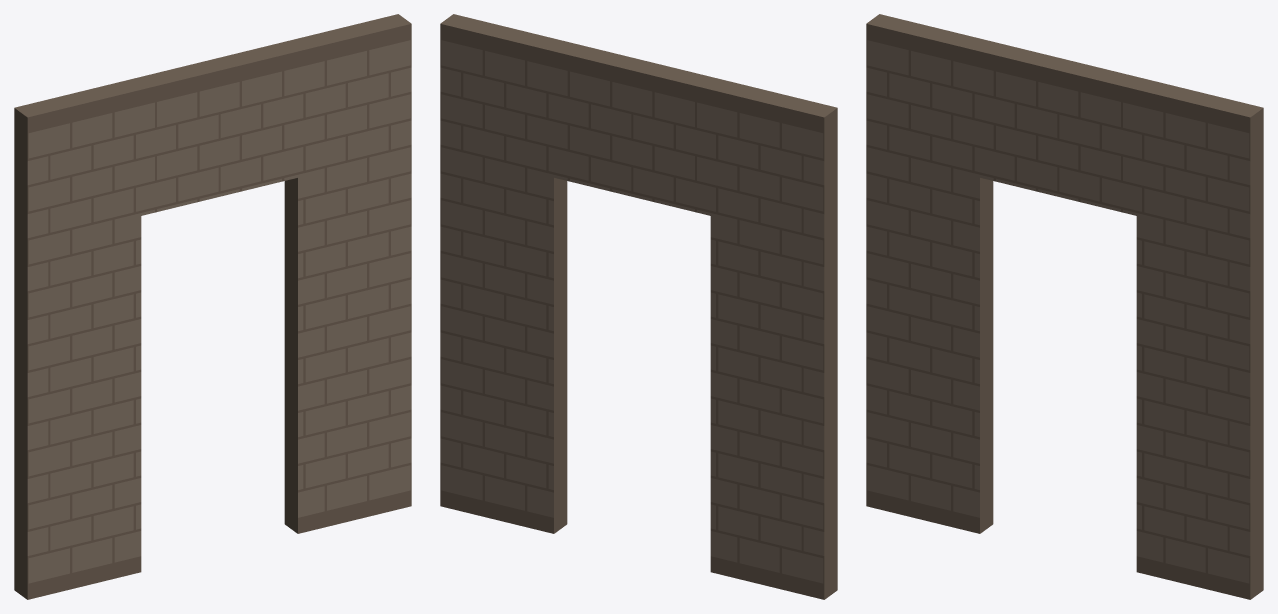
Rendered from Wall1_C10_17.fbx.
3 views of the same model, side by side, from view 1: azimuth 30°, elevation 25°; view 2: azimuth 150°, elevation 25°; view 3: azimuth 330°, elevation 25° (orthographic).
Parts seen in each view (by area): view 1: Wall1_C10_17; view 2: Wall1_C10_17; view 3: Wall1_C10_17.
Boxes of the visible parts, x1,y1,x2,y2 form: Wall1_C10_17: (14,14,411,599); Wall1_C10_17: (440,14,837,599); Wall1_C10_17: (866,14,1263,599).
Bounding box in the file's own units: 250 × 300 × 15.
